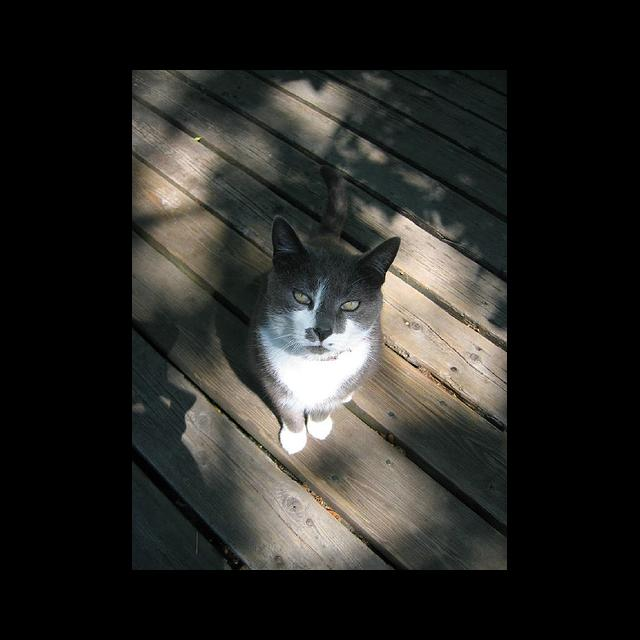animals: (278, 215, 398, 340)
